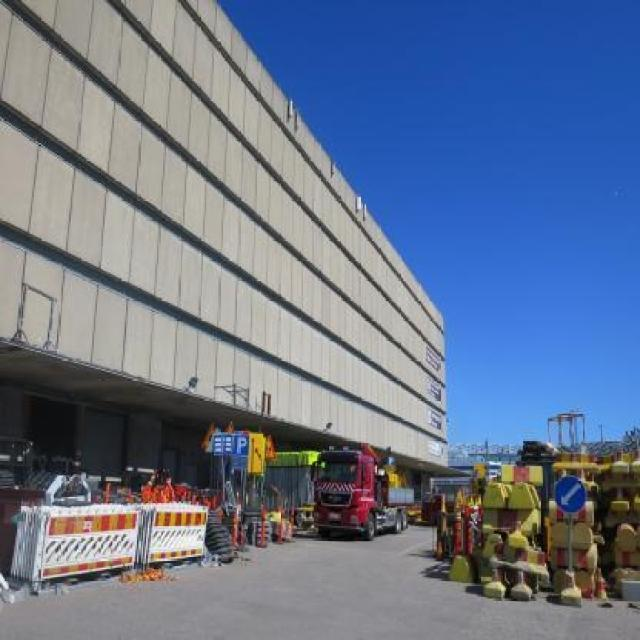Truck: (305, 434, 419, 544)
